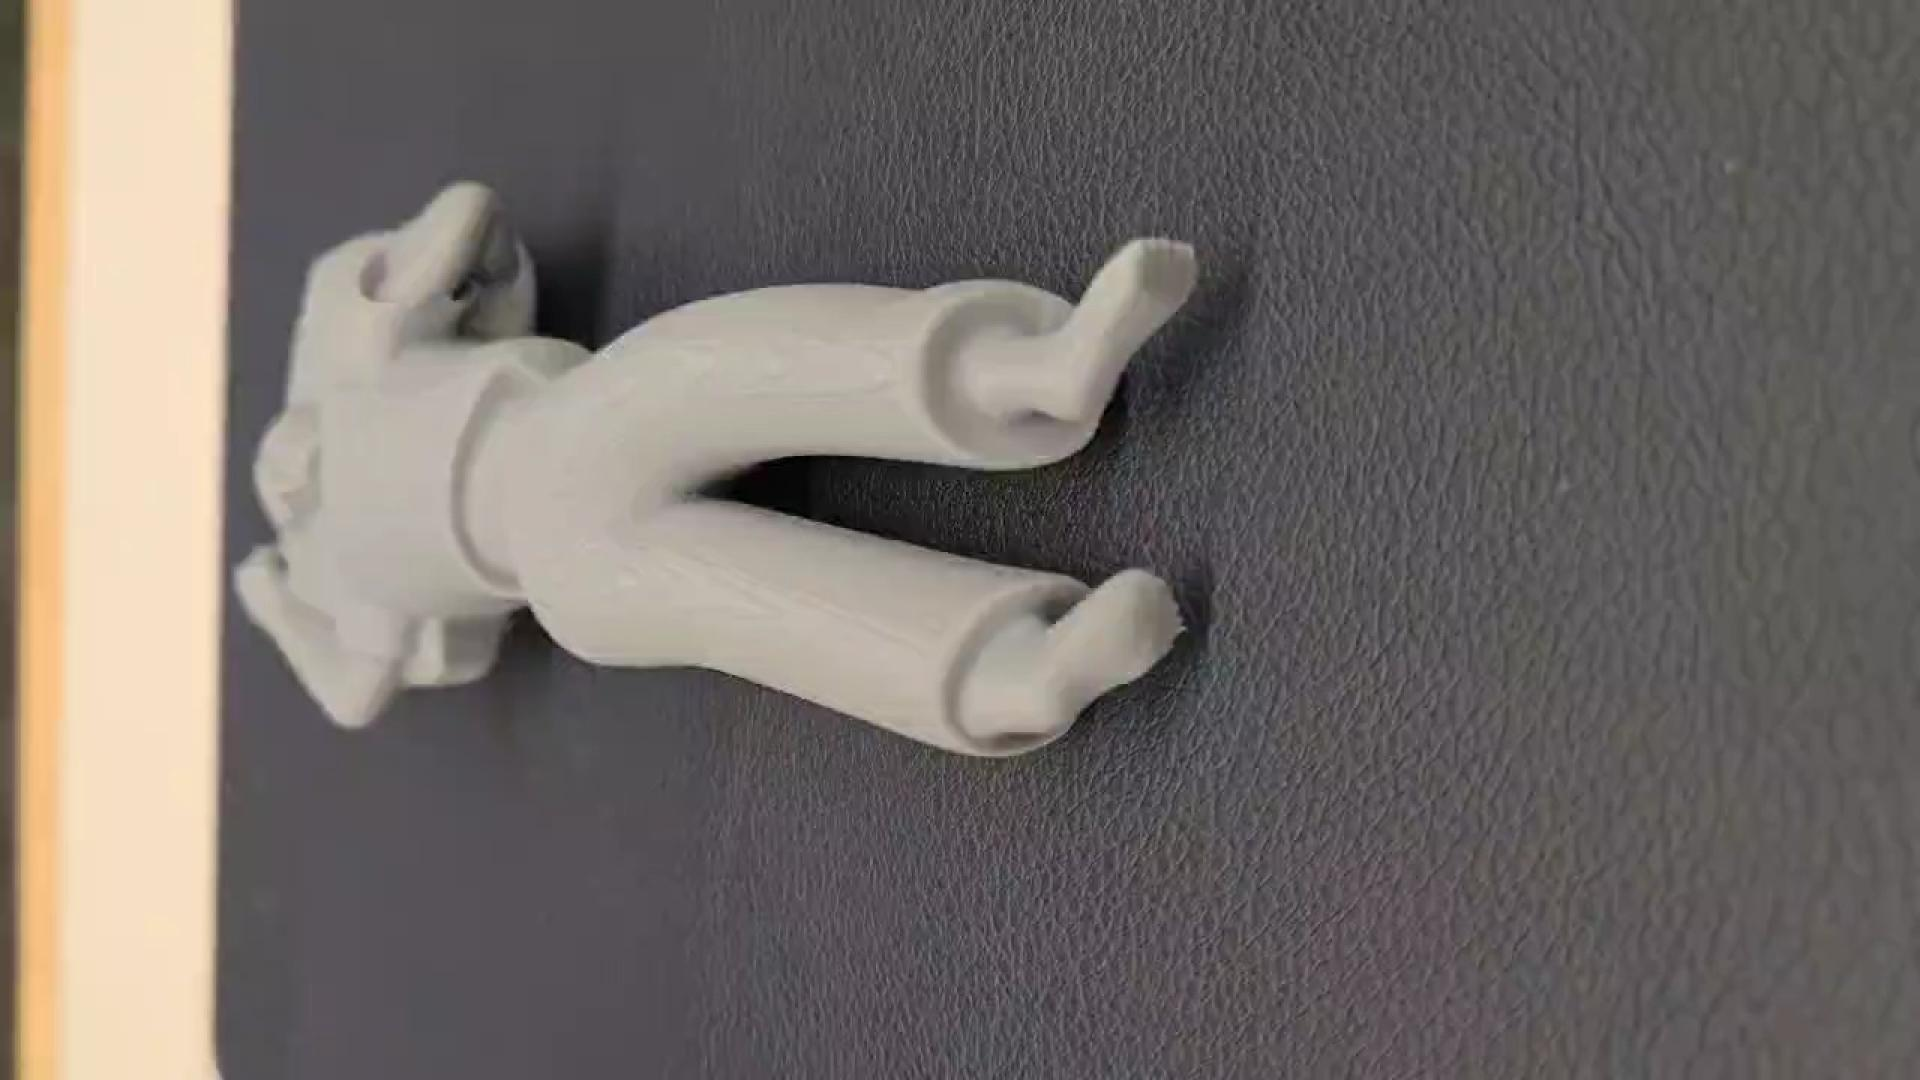Bad-style: (235, 183, 1209, 765)
